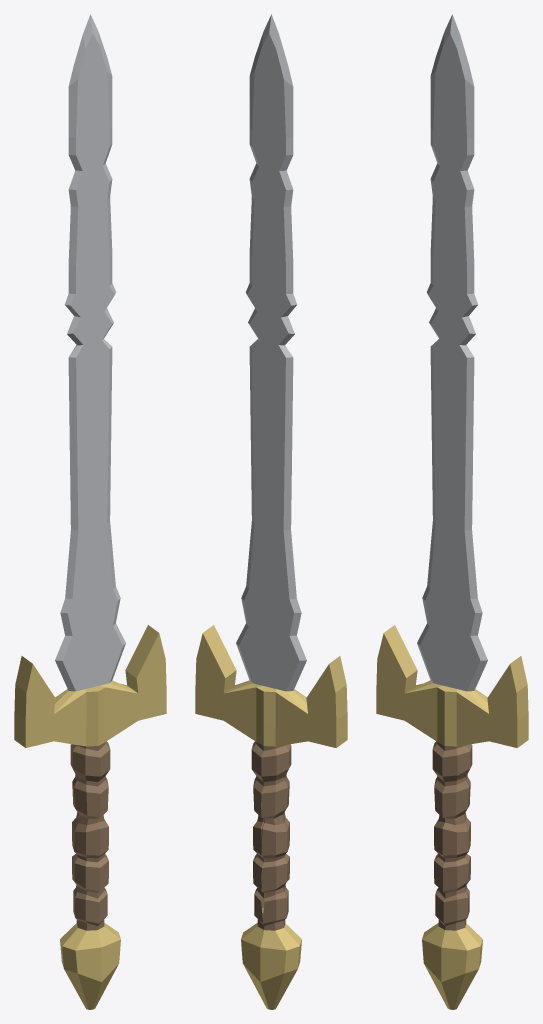
Rendered from weapon_crownbreaker.glb.
3 renders of one model, left to right at view 1: azimuth 30°, elevation 25°; view 2: azimuth 150°, elevation 25°; view 3: azimuth 330°, elevation 25°, orthographic.
Parts seen in each view (by area): view 1: crownbreaker; view 2: crownbreaker; view 3: crownbreaker.
Boxes of the visible parts, x1,y1,x2,y2 form: crownbreaker: [14, 14, 166, 1009]; crownbreaker: [195, 14, 347, 1009]; crownbreaker: [376, 14, 528, 1009].
Bounding box in the file's own units: 0.1705 × 1.15 × 0.0473.
